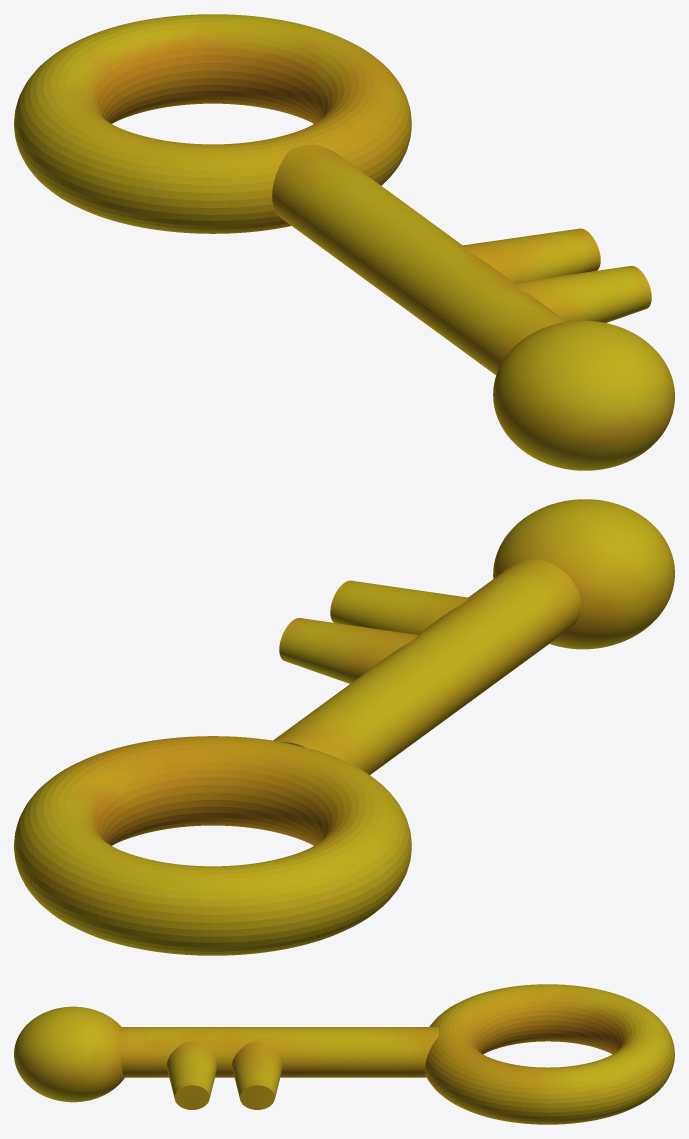
Rendered from Key.glb.
The picture shows the model from 3 angles, top to bottom: view 1: azimuth 30°, elevation 25°; view 2: azimuth 150°, elevation 25°; view 3: azimuth 270°, elevation 25°; orthographic projection. The views are drawn at different scales.
Parts seen in each view (by area): view 1: Torus 5; view 2: Torus 5; view 3: Torus 5.
Part boxes in pixels (box(x1,y1,x2,y2)): Torus 5: box(14, 14, 674, 470); Torus 5: box(14, 499, 674, 955); Torus 5: box(14, 984, 674, 1124).
Size of the model in its own units: 0.5296 by 0.1887 by 1.38.
